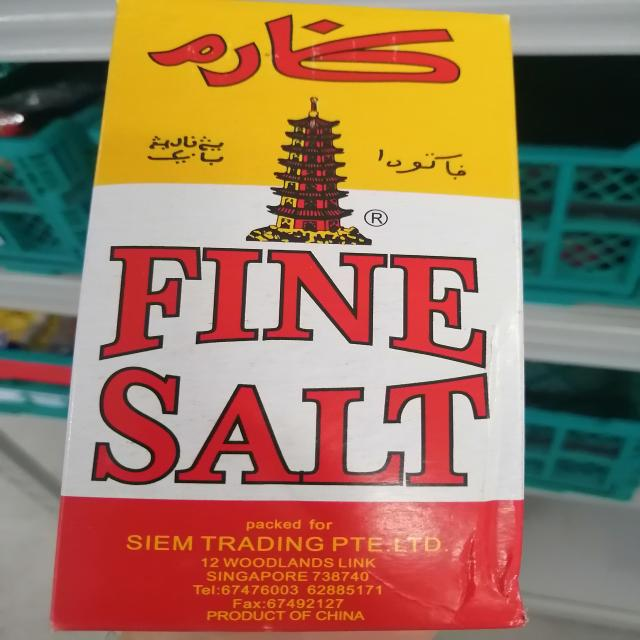object_name: (100, 7, 512, 624)
